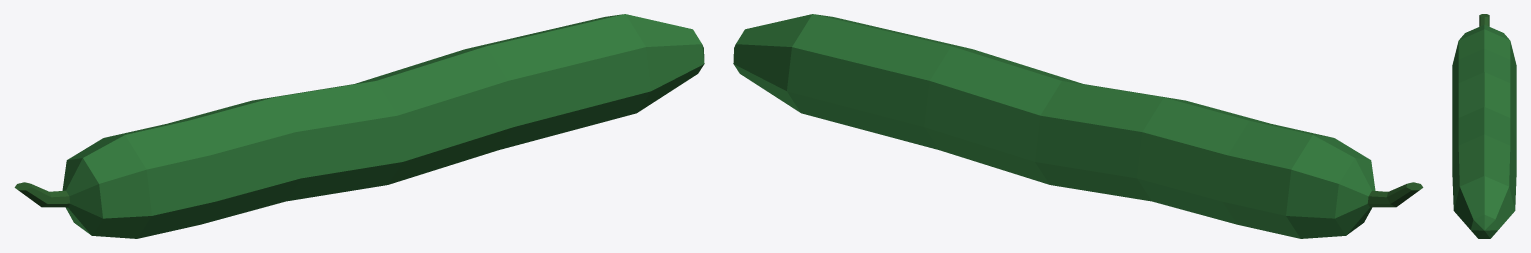
The model's file is Cucumber.fbx.
3 renders of one model, left to right at view 1: azimuth 30°, elevation 25°; view 2: azimuth 150°, elevation 25°; view 3: azimuth 270°, elevation 25°, orthographic. The views are drawn at different scales.
Visible parts, largest first — view 1: Cucumber; view 2: Cucumber; view 3: Cucumber.
Boxes of the visible parts, x1,y1,x2,y2 form: Cucumber: (14,14,704,238); Cucumber: (733,14,1423,238); Cucumber: (1452,14,1516,238).
Bounding box in the file's own units: 100 × 14.43 × 13.6.
